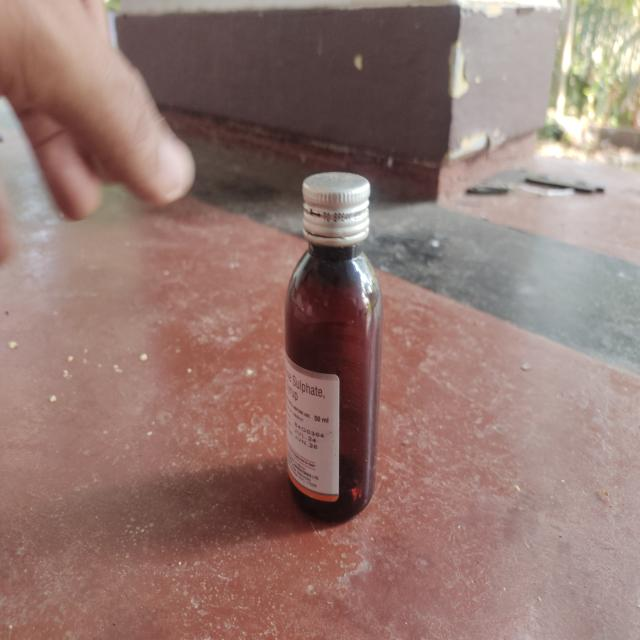plastic: (284, 172, 382, 525)
